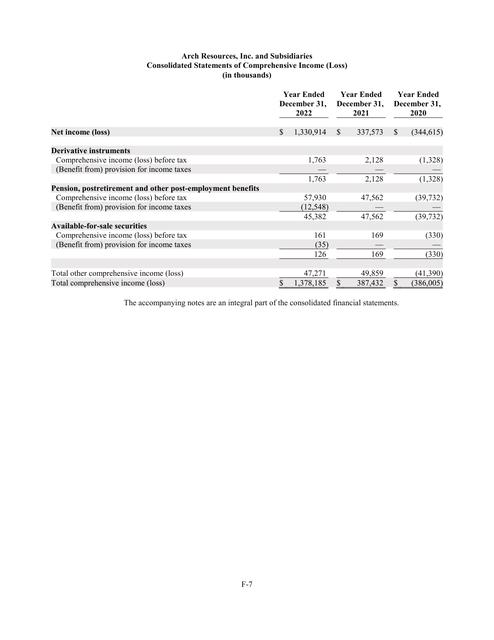box: (49, 89, 445, 293)
